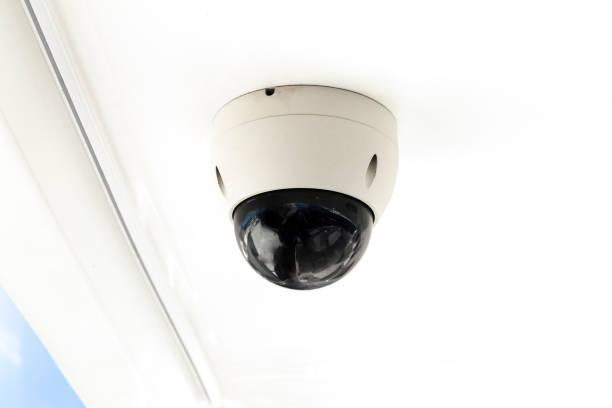camera: (182, 67, 399, 322)
